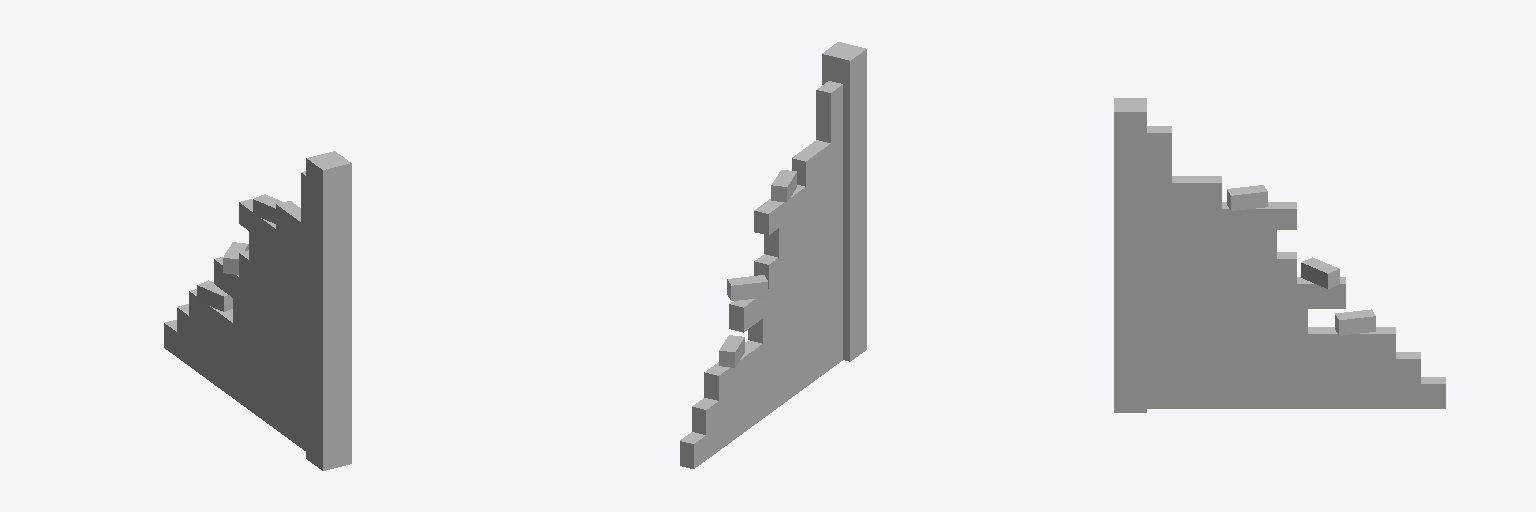
File: wall-broken.obj
3 views of the same model, side by side, from view 1: azimuth 30°, elevation 25°; view 2: azimuth 150°, elevation 25°; view 3: azimuth 270°, elevation 25° (orthographic).
Parts seen in each view (by area): view 1: wall-broken; view 2: wall-broken; view 3: wall-broken.
Part boxes in pixels (left/top/right/bottom): wall-broken: left=164, top=151, right=351, bottom=470; wall-broken: left=680, top=42, right=866, bottom=468; wall-broken: left=1114, top=98, right=1445, bottom=412.
Bounding box in the file's own units: 0.1168 × 1 × 1.